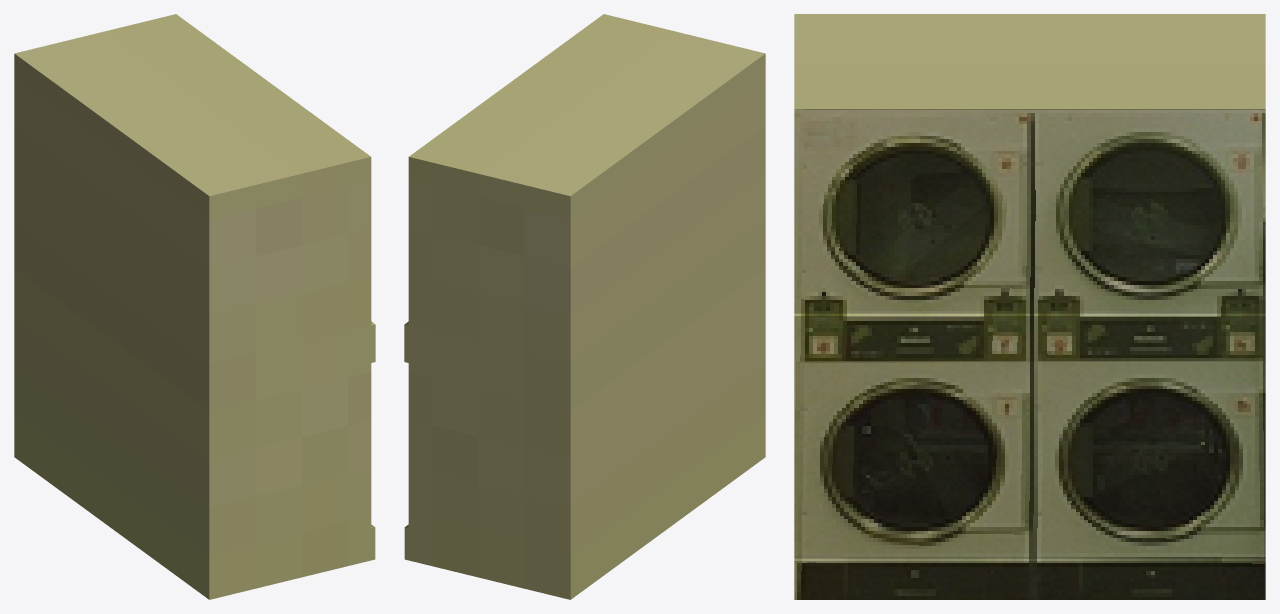
The model's file is laundrymachine.glb.
The picture shows the model from 3 angles, left to right: view 1: azimuth 30°, elevation 25°; view 2: azimuth 150°, elevation 25°; view 3: azimuth 270°, elevation 25°; orthographic projection. The views are drawn at different scales.
Visible parts, largest first — view 1: laundrymachine; view 2: laundrymachine; view 3: laundrymachine.
Boxes of the visible parts, x1,y1,x2,y2 form: laundrymachine: (14,14,375,599); laundrymachine: (404,14,765,599); laundrymachine: (794,14,1265,599).
Bounding box in the file's own units: 1.54 × 3.58 × 3.13.
1 material, 1 textured.
